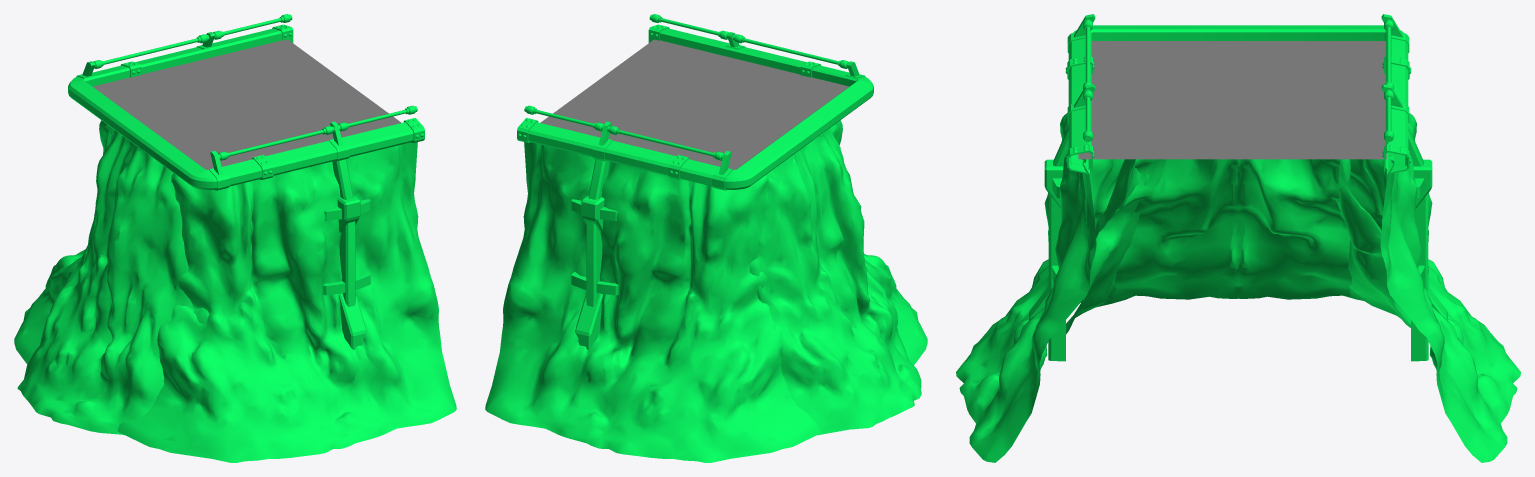
File: Track_07_End.fbx
3 views of the same model, side by side, from view 1: azimuth 30°, elevation 25°; view 2: azimuth 150°, elevation 25°; view 3: azimuth 270°, elevation 25° (orthographic). The views are drawn at different scales.
Parts seen in each view (by area): view 1: Side_Rock_010, Road_010; view 2: Side_Rock_010, Road_010; view 3: Side_Rock_010, Road_010.
Part boxes in pixels (x1,y1,x2,y2): Side_Rock_010: (14, 14, 456, 462); Road_010: (92, 39, 401, 169); Side_Rock_010: (485, 14, 927, 462); Road_010: (540, 39, 849, 169); Side_Rock_010: (956, 14, 1520, 462); Road_010: (1078, 41, 1386, 159).
Size of what is drawn, in the model's own units: 3206 by 4030 by 2600.
